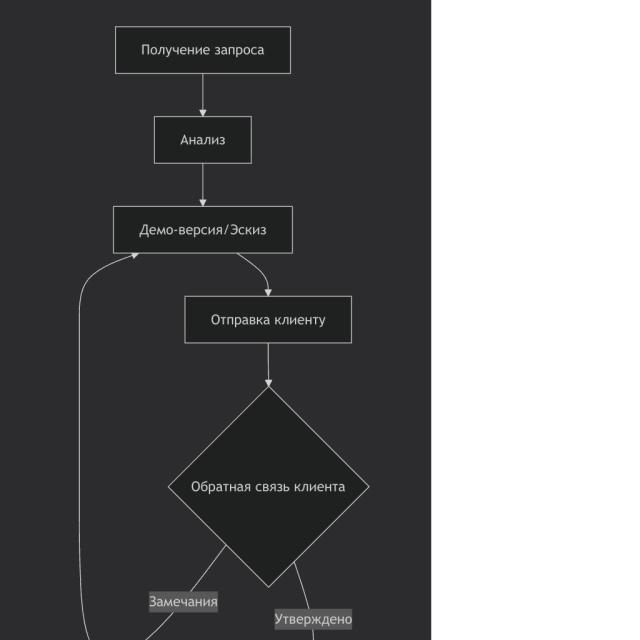arrow: (235, 254, 273, 296), (198, 75, 208, 116), (264, 343, 273, 387), (199, 165, 207, 207)
diamond: (168, 385, 370, 589)
rectangle: (114, 205, 294, 255), (116, 26, 290, 74), (185, 296, 352, 344), (154, 116, 252, 164)
